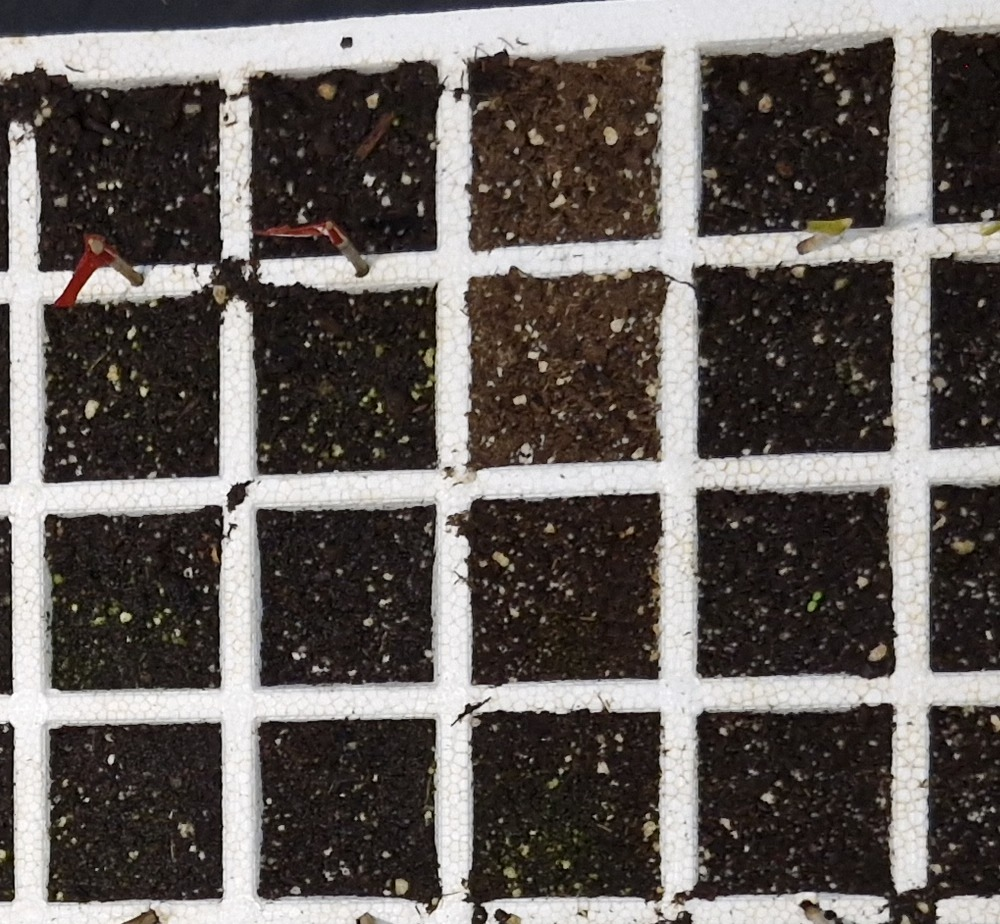Folha: (807, 600, 817, 612)
Germinacao: (807, 591, 822, 612)
